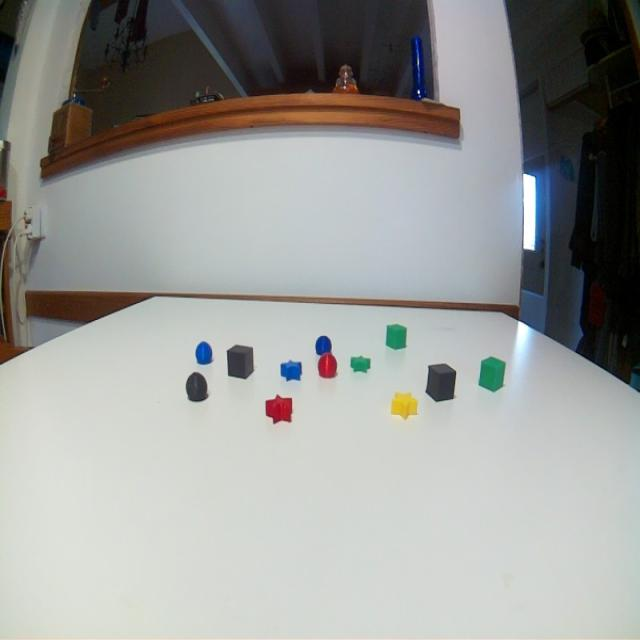ball: (183, 370, 211, 404), (316, 351, 340, 384), (193, 338, 214, 368), (313, 332, 334, 359)
cube: (426, 358, 458, 410), (474, 351, 509, 395), (224, 342, 256, 382), (384, 319, 406, 353)
star: (262, 389, 297, 426), (387, 386, 420, 422), (276, 356, 306, 385), (346, 352, 375, 378)
